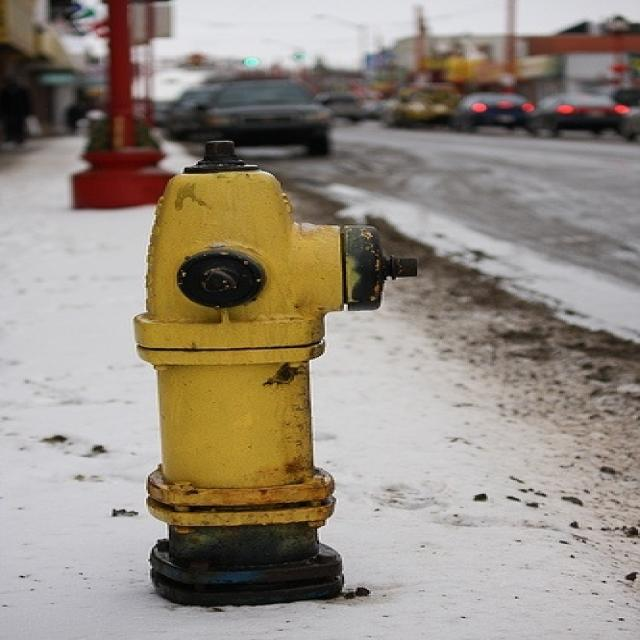fire_hydrant: (118, 116, 458, 640)
